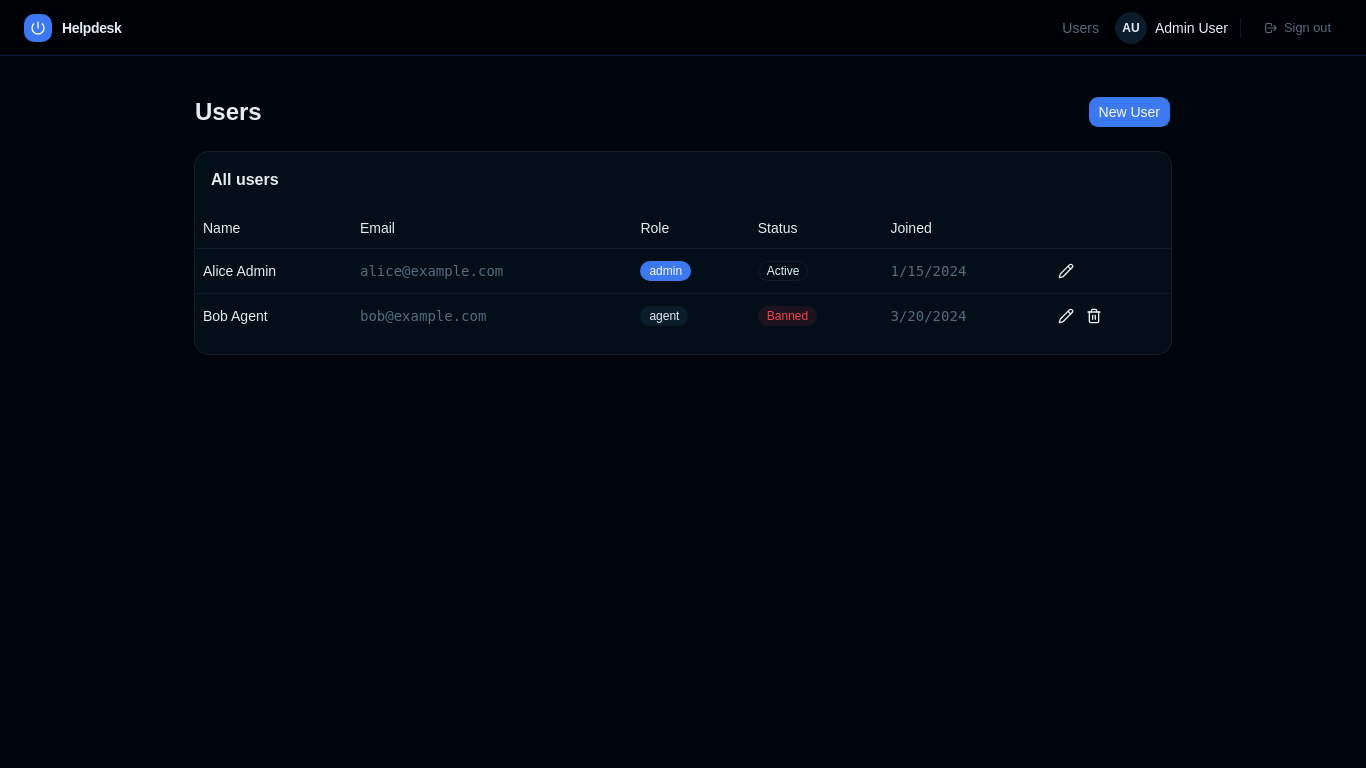
Test: UsersPage › closes the modal when pressing Escape
The width and height of the screenshot is (1366, 768).
Click the button "New User".
click(1129, 112)  # box [1088,96,1171,128]
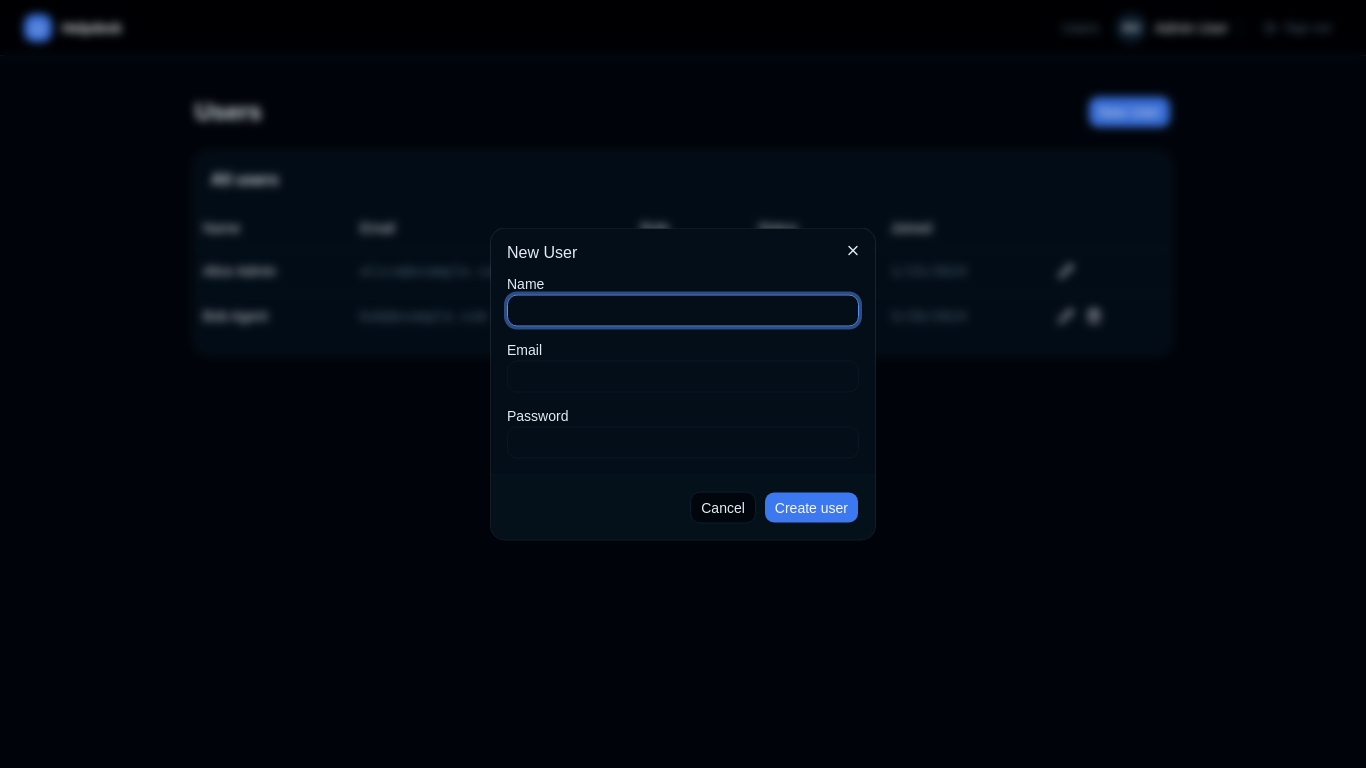
expect the dialog is shown: met, box [491,228,875,540]
Press Escape
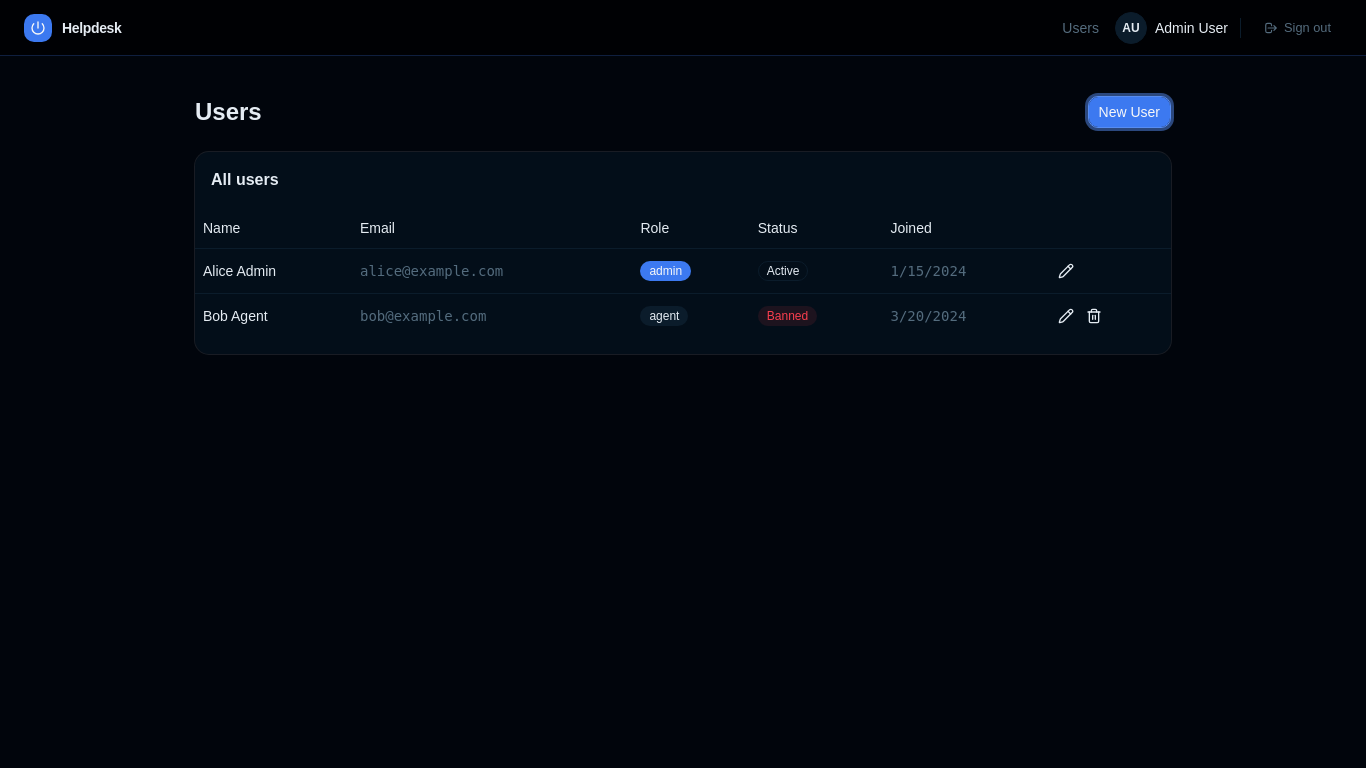
expect the dialog is gone: met
